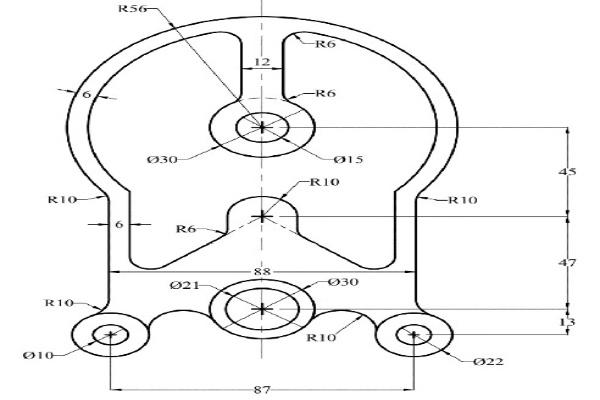dimensions: (138, 143, 182, 172), (40, 188, 81, 209), (325, 272, 363, 294), (164, 274, 202, 295), (445, 191, 484, 209), (333, 149, 368, 168), (112, 0, 148, 17), (305, 329, 339, 347), (18, 349, 55, 365), (306, 174, 344, 189), (472, 355, 507, 371), (554, 160, 582, 179), (44, 296, 77, 312), (554, 253, 583, 271), (245, 381, 277, 397), (314, 36, 341, 54), (171, 221, 198, 238), (252, 264, 277, 280), (313, 86, 338, 101), (109, 217, 128, 233), (557, 315, 580, 328), (252, 56, 274, 68), (79, 88, 95, 101)
